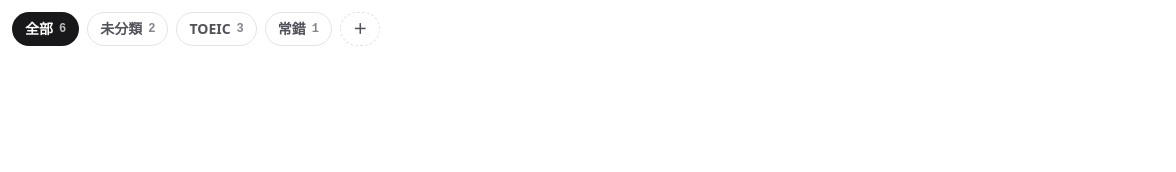
Test: 名稱空白時建立鈕停用
Step 1. Click the button named "新增資料夾" → (360, 29), box [340, 12, 380, 46]
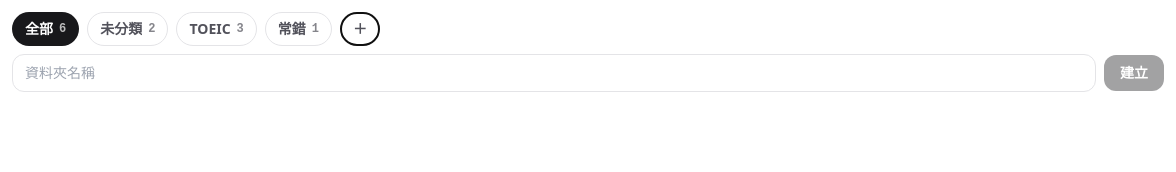
Result: the button "建立" is disabled at [1104, 55, 1164, 91]
